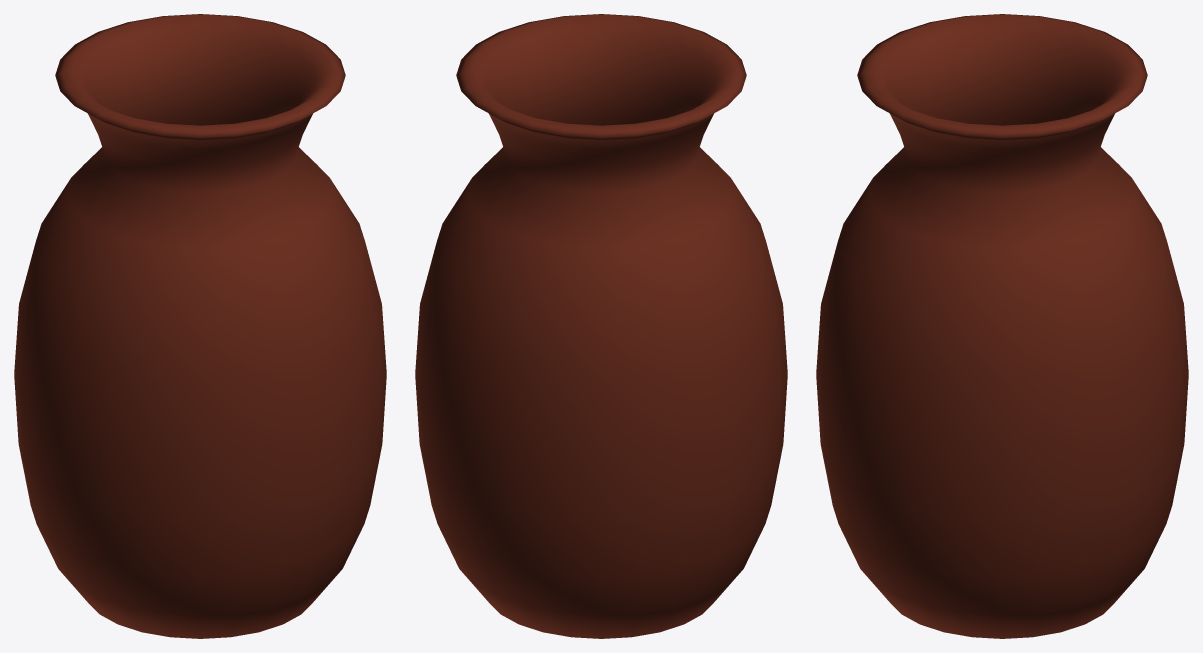
Rendered from Pot2.fbx.
3 renders of one model, left to right at view 1: azimuth 30°, elevation 25°; view 2: azimuth 150°, elevation 25°; view 3: azimuth 270°, elevation 25°, orthographic.
Parts seen in each view (by area): view 1: Sphere002; view 2: Sphere002; view 3: Sphere002.
Boxes of the visible parts, x1,y1,x2,y2 form: Sphere002: (14,14,386,638); Sphere002: (415,14,787,638); Sphere002: (816,14,1188,638).
Bounding box in the file's own units: 39.18 × 60.43 × 39.18.
